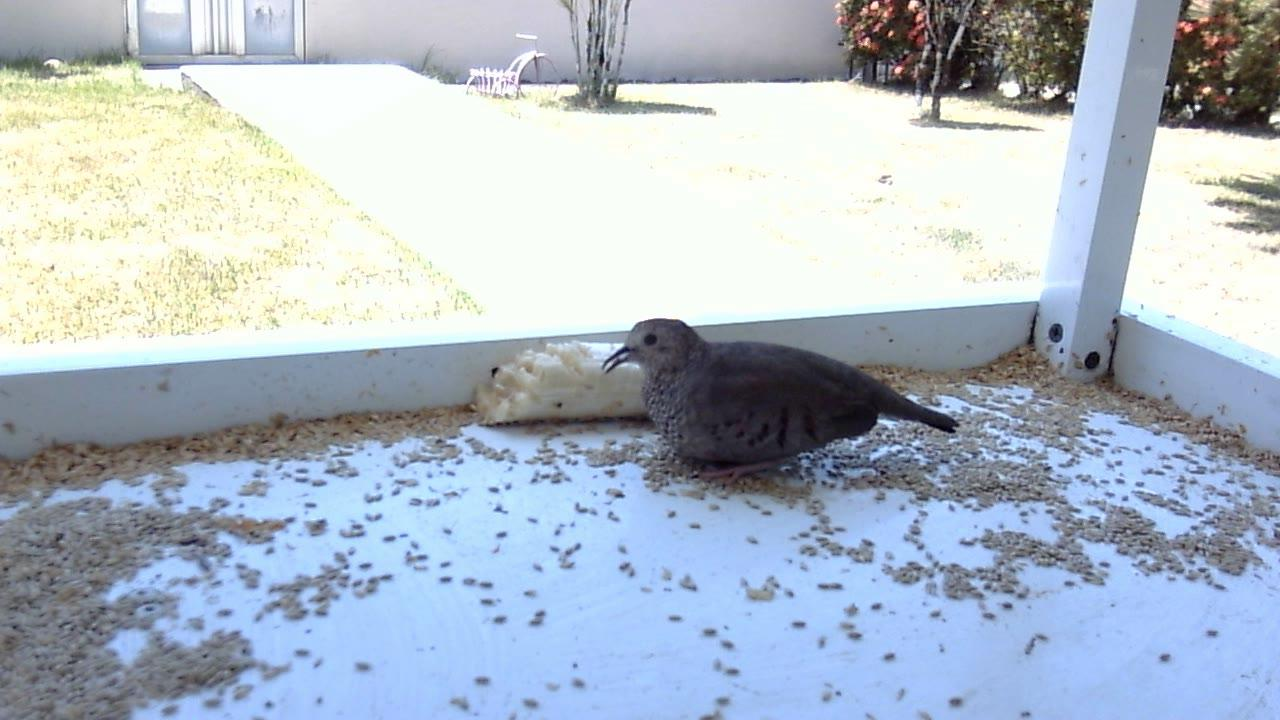rolinha: (600, 313, 963, 495)
